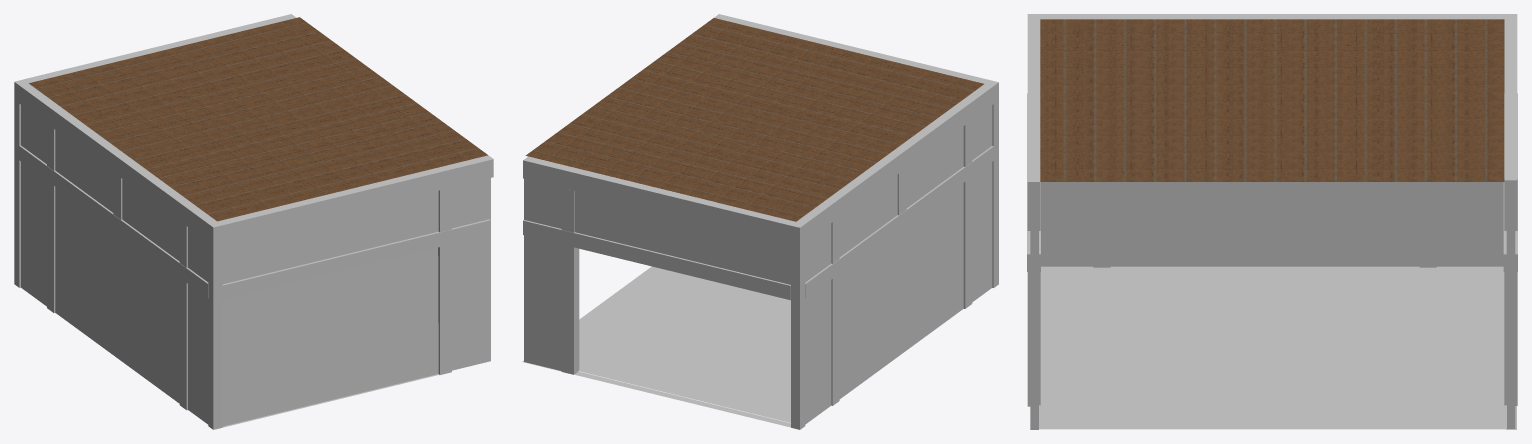
Rendered from 精神世界の一部屋 ➡.fbx.
3 views of the same model, side by side, from view 1: azimuth 30°, elevation 25°; view 2: azimuth 150°, elevation 25°; view 3: azimuth 270°, elevation 25° (orthographic). The views are drawn at different scales.
Visible parts, largest first — view 1: 平面.071, 立方体.038, 立方体.037, 立方体.033, 立方体.028, 立方体.029, 平面.062, 平面.061, 平面.067, 立方体.032, 平面.066, 平面.059 (+6 smaller); view 2: 平面.071, 畳.003, 立方体.037, 立方体.030, 立方体.028, 平面.060, 平面.061, 立方体.034, 平面.065, 立方体.032, 平面.066, 平面.058 (+7 smaller); view 3: 畳.003, 平面.071, 立方体.037, 立方体.032, 立方体.031, 平面.061, 平面.062, 平面.060, 立方体.029, 平面.063, 平面.064, 立方体.034 (+4 smaller).
Part boxes in pixels (x1=…): 平面.071: x1=29, y1=17, x2=487, y2=221; 立方体.038: x1=222, y1=247, x2=438, y2=426; 立方体.037: x1=55, y1=187, x2=179, y2=403; 立方体.033: x1=222, y1=190, x2=438, y2=284; 立方体.028: x1=21, y1=105, x2=208, y2=281; 立方体.029: x1=452, y1=178, x2=490, y2=370; 平面.062: x1=217, y1=155, x2=493, y2=243; 平面.061: x1=19, y1=83, x2=216, y2=241; 平面.067: x1=222, y1=219, x2=490, y2=299; 立方体.032: x1=21, y1=162, x2=46, y2=306; 平面.066: x1=19, y1=145, x2=208, y2=297; 平面.059: x1=208, y1=221, x2=222, y2=429; 平面.071: x1=525, y1=18, x2=983, y2=221; 畳.003: x1=578, y1=266, x2=790, y2=422; 立方体.037: x1=839, y1=183, x2=963, y2=398; 立方体.030: x1=524, y1=178, x2=790, y2=284; 立方体.028: x1=805, y1=105, x2=992, y2=282; 平面.060: x1=523, y1=156, x2=795, y2=243; 平面.061: x1=796, y1=84, x2=993, y2=241; 立方体.034: x1=524, y1=235, x2=561, y2=370; 平面.065: x1=523, y1=220, x2=790, y2=300; 立方体.032: x1=805, y1=280, x2=831, y2=424; 平面.066: x1=805, y1=146, x2=993, y2=298; 平面.058: x1=791, y1=222, x2=805, y2=429; 畳.003: x1=1039, y1=266, x2=1506, y2=429; 平面.071: x1=1040, y1=19, x2=1504, y2=181; 立方体.037: x1=1110, y1=182, x2=1419, y2=266; 立方体.032: x1=1436, y1=182, x2=1503, y2=266; 立方体.031: x1=1041, y1=182, x2=1093, y2=266; 平面.061: x1=1040, y1=14, x2=1504, y2=19; 平面.062: x1=1027, y1=19, x2=1040, y2=204; 平面.060: x1=1504, y1=19, x2=1517, y2=202; 立方体.029: x1=1030, y1=204, x2=1038, y2=429; 平面.063: x1=1093, y1=182, x2=1110, y2=267; 平面.064: x1=1419, y1=182, x2=1436, y2=267; 立方体.034: x1=1507, y1=272, x2=1515, y2=428.
Size of the model in its own units: 463 by 320 by 571.
